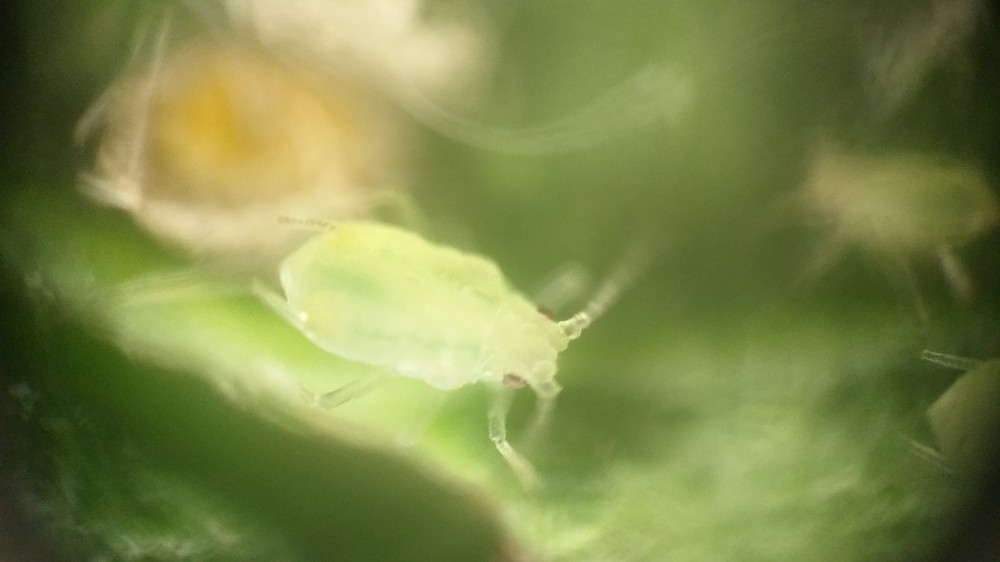Pulgon: (260, 193, 654, 514)
